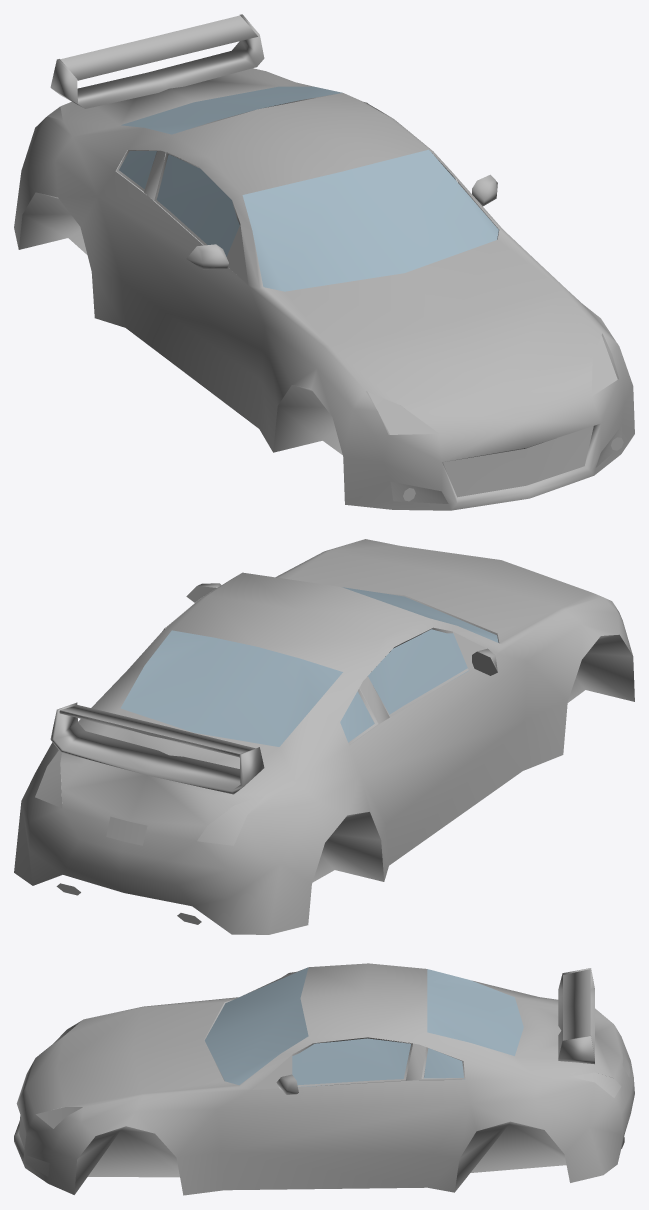
Rendered from Car_7_LOD2.FBX.
3 views of the same model, one above another, from view 1: azimuth 30°, elevation 25°; view 2: azimuth 150°, elevation 25°; view 3: azimuth 270°, elevation 25° (orthographic). The views are drawn at different scales.
Parts seen in each view (by area): view 1: Body_7, Glass_7, Matte_7; view 2: Body_7, Glass_7, Matte_7, Taillights_7; view 3: Body_7, Glass_7, Matte_7, Taillights_7.
Boxes of the visible parts, x1,y1,x2,y2 form: Body_7: (14,14,634,510); Glass_7: (119,86,498,291); Matte_7: (19,102,623,503); Body_7: (14,539,632,934); Glass_7: (120,587,498,746); Matte_7: (56,586,634,924); Taillights_7: (35,750,265,845); Body_7: (14,963,634,1195); Glass_7: (204,967,523,1087); Matte_7: (19,1000,629,1194); Taillights_7: (569,1072,621,1097).
Size of what is drawn, in the model's own units: 1.94 by 1.17 by 4.4.
